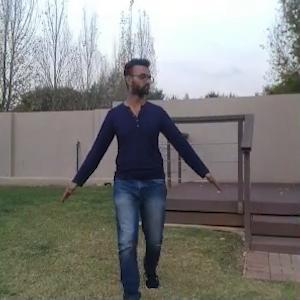land: (61, 65, 224, 297)
